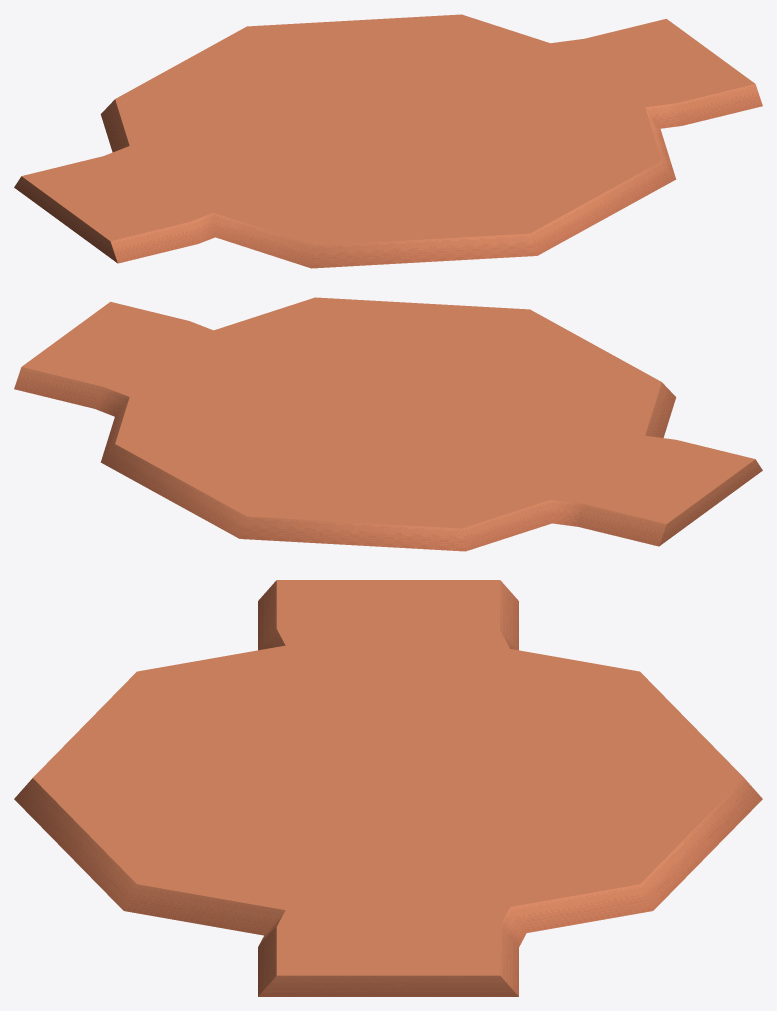
File: path-square.glb
3 views of the same model, one above another, from view 1: azimuth 30°, elevation 25°; view 2: azimuth 150°, elevation 25°; view 3: azimuth 270°, elevation 25° (orthographic). The views are drawn at different scales.
Visible parts, largest first — view 1: path-square; view 2: path-square; view 3: path-square.
Part boxes in pixels (x1,y1,x2,y2): path-square: (14,14,762,268); path-square: (14,297,762,551); path-square: (14,580,762,996).
Size of the model in its own units: 1 by 0.025 by 0.8.
Materials: 1 (1 with a texture image).
